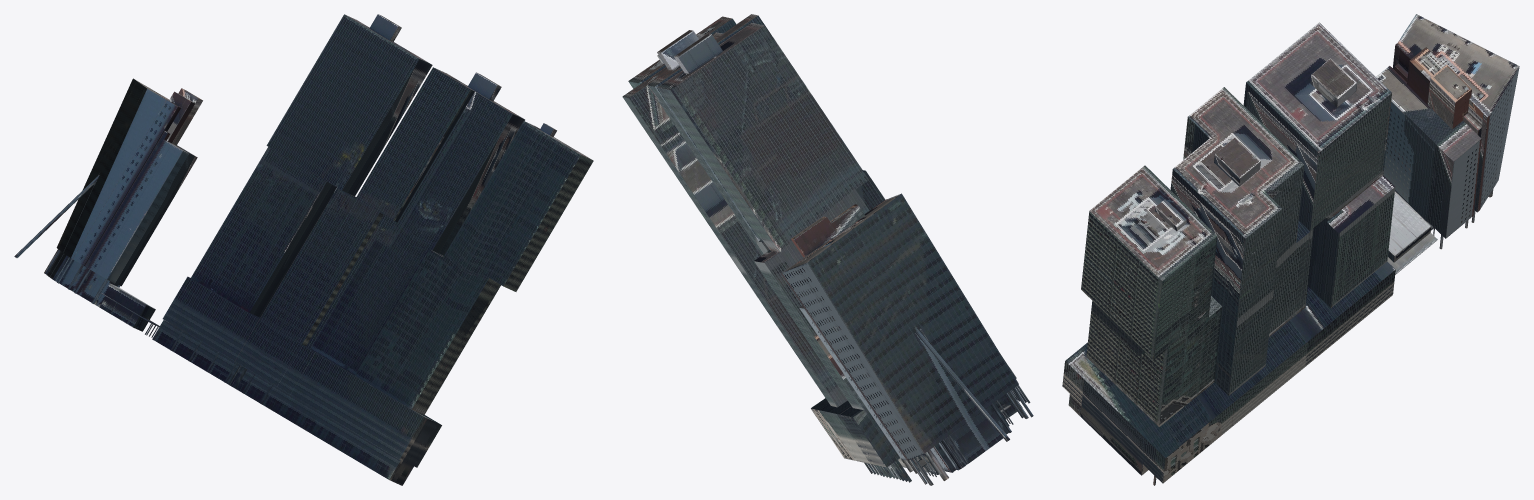
File: 17-134340-27738-0-tex512.glb
3 renders of one model, left to right at view 1: azimuth 30°, elevation 25°; view 2: azimuth 150°, elevation 25°; view 3: azimuth 270°, elevation 25°, orthographic. The views are drawn at different scales.
Visible parts, largest first — view 1: BAG_0599100100002429 (×3), BAG_0599100000691009 (×3); view 2: BAG_0599100100002429 (×3), BAG_0599100000691009 (×3); view 3: BAG_0599100100002429 (×3), BAG_0599100000691009 (×3).
Boxes of the visible parts, left/top/right/bottom form: BAG_0599100100002429 (×3): left=152, top=14, right=593, bottom=485; BAG_0599100000691009 (×3): left=14, top=78, right=202, bottom=337; BAG_0599100100002429 (×3): left=622, top=14, right=1030, bottom=482; BAG_0599100000691009 (×3): left=781, top=193, right=1033, bottom=485; BAG_0599100100002429 (×3): left=1062, top=22, right=1395, bottom=485; BAG_0599100000691009 (×3): left=1376, top=14, right=1519, bottom=274.
Bounding box in the file's own units: 198 × 176 × 155.
Materials: 4 (3 with a texture image).
